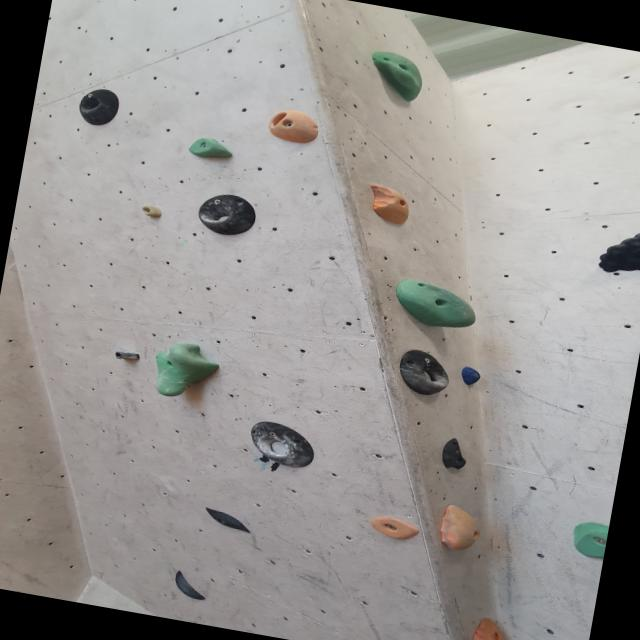Crimp: (364, 510, 425, 544)
Jug: (147, 336, 226, 406), (589, 201, 640, 287), (360, 46, 430, 108)
Pinch: (361, 181, 424, 230), (432, 502, 488, 556), (185, 135, 240, 166)
Pocket: (242, 418, 320, 470), (192, 189, 262, 241), (392, 346, 454, 401), (264, 104, 324, 148), (72, 85, 126, 132)
Sloper: (387, 274, 485, 336), (568, 517, 609, 561), (436, 433, 471, 472), (464, 614, 509, 640)
